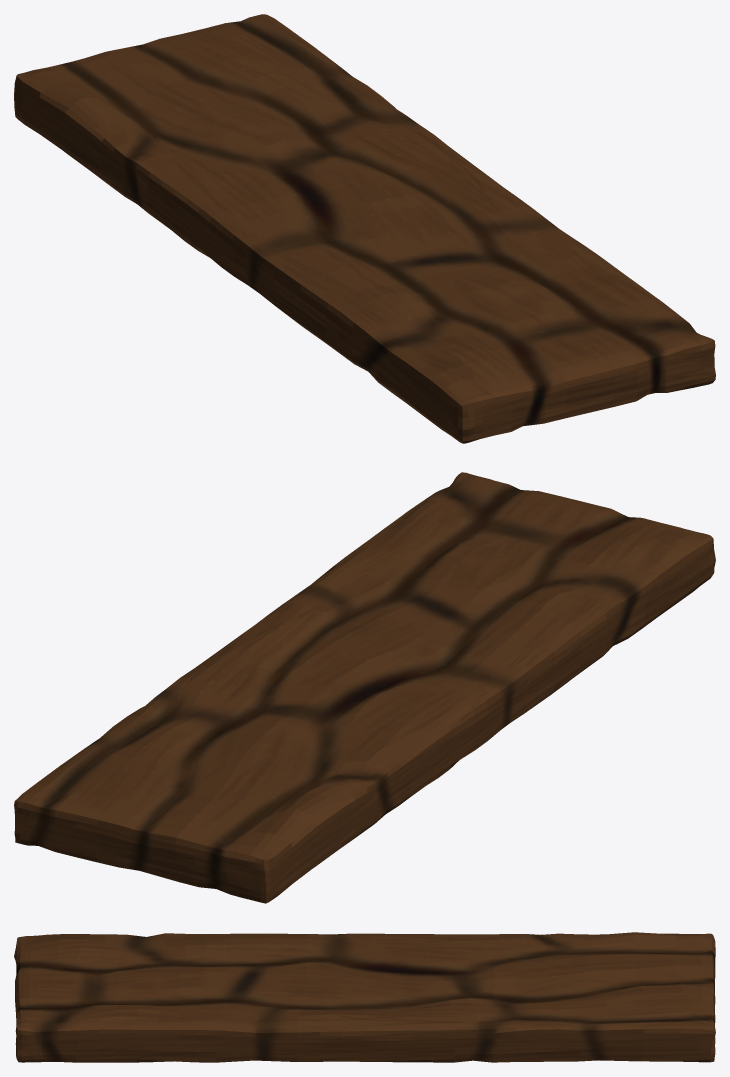
The model's file is Starting_Platform.fbx.
3 views of the same model, one above another, from view 1: azimuth 30°, elevation 25°; view 2: azimuth 150°, elevation 25°; view 3: azimuth 270°, elevation 25° (orthographic). The views are drawn at different scales.
Visible parts, largest first — view 1: Starting_Platform:ZBrushPolyMesh3D; view 2: Starting_Platform:ZBrushPolyMesh3D; view 3: Starting_Platform:ZBrushPolyMesh3D.
Part boxes in pixels (x1,y1,x2,y2): Starting_Platform:ZBrushPolyMesh3D: (14, 14, 715, 443); Starting_Platform:ZBrushPolyMesh3D: (14, 472, 715, 903); Starting_Platform:ZBrushPolyMesh3D: (14, 932, 715, 1062).
Bounding box in the file's own units: 1.98 × 0.3839 × 6.01.
